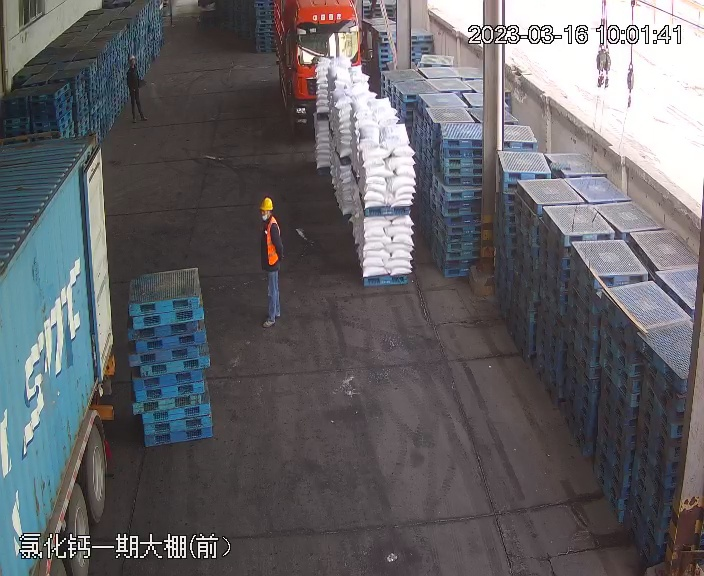head: (255, 196, 284, 238), (127, 55, 140, 74)
helmet: (257, 196, 274, 211), (129, 55, 137, 62)
people: (251, 195, 289, 328), (125, 53, 148, 123)
truck: (1, 136, 113, 576), (271, 1, 365, 116)
